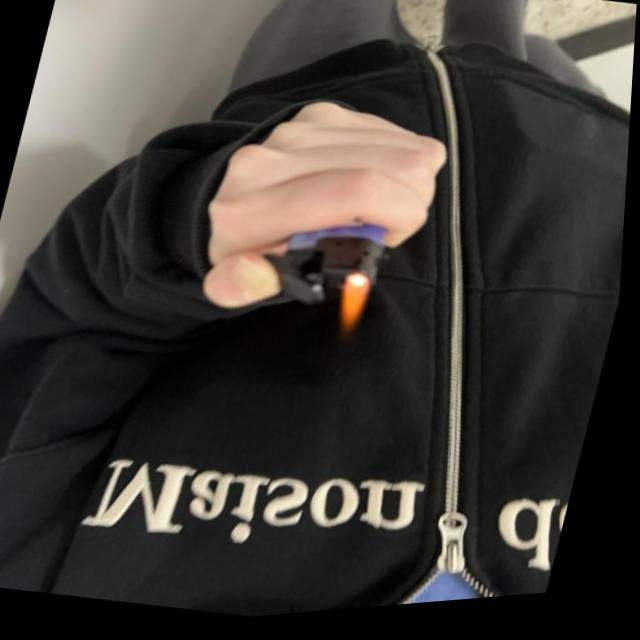Fire: (338, 276, 378, 344)
